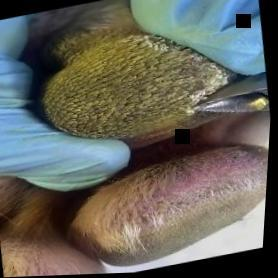keratosis: (31, 0, 248, 156)
